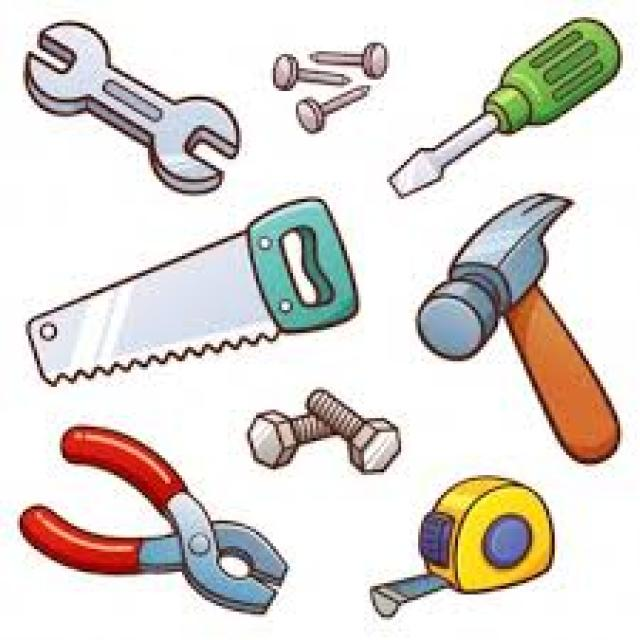hammer: (415, 187, 622, 458)
spanner: (23, 20, 239, 186)
